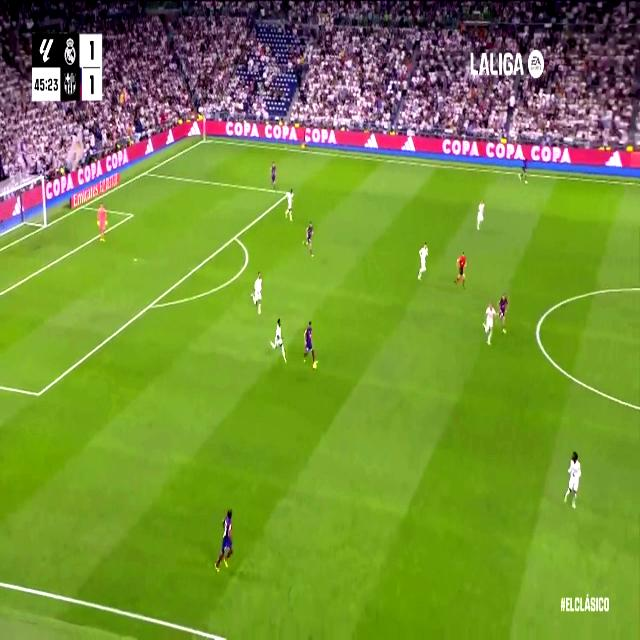bigarea_bottom_inner: (33, 382, 43, 405)
bigarea_top_inner: (284, 188, 290, 200)
bigarea_top_outter: (141, 165, 149, 178)
bottom_arc_area_intersection: (146, 296, 155, 314)
corner: (200, 132, 210, 144)
smallarea_top_inner: (129, 209, 134, 219)
top_arc_area_intersection: (231, 228, 239, 245)
